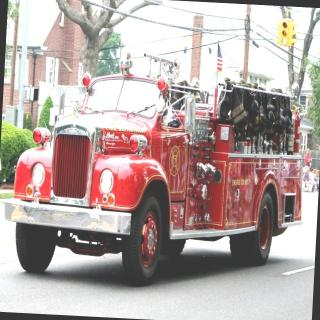Fire_truck: (0, 41, 311, 293)
